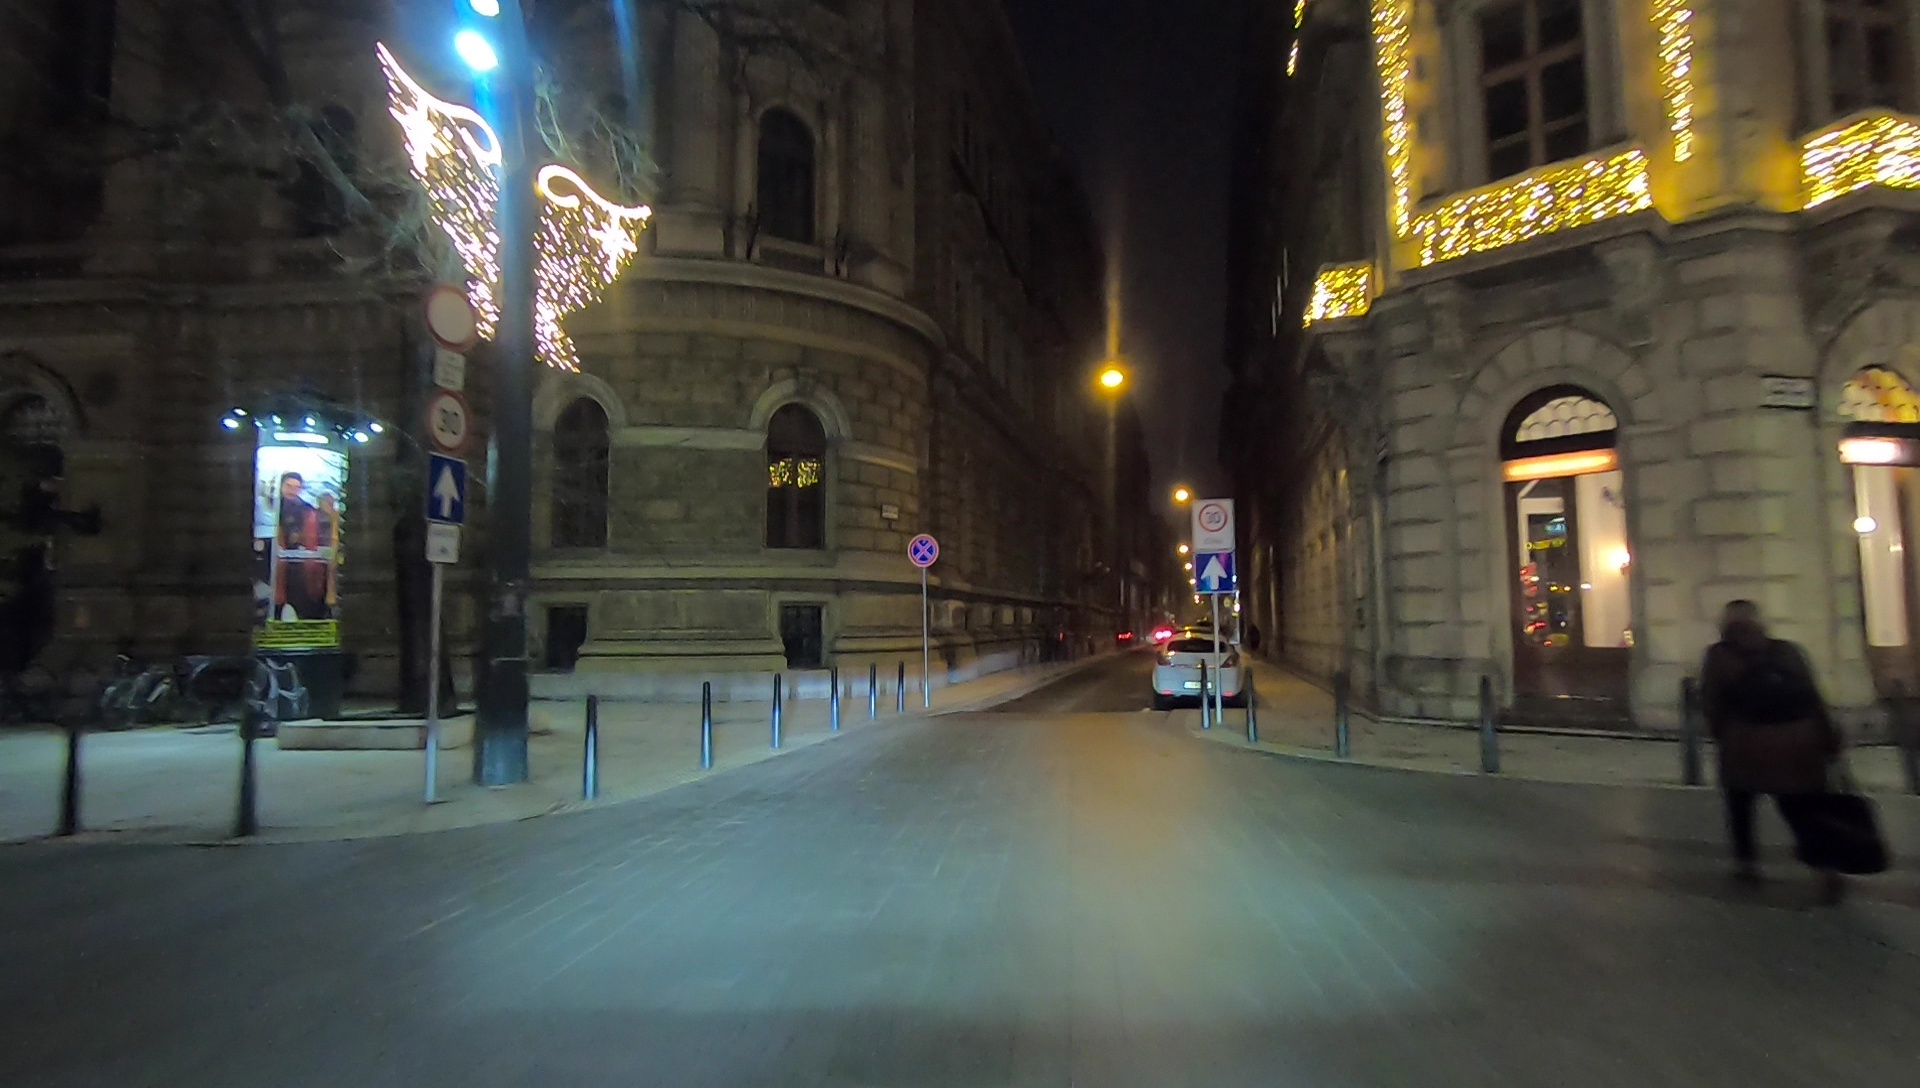person: (1695, 599, 1884, 906)
